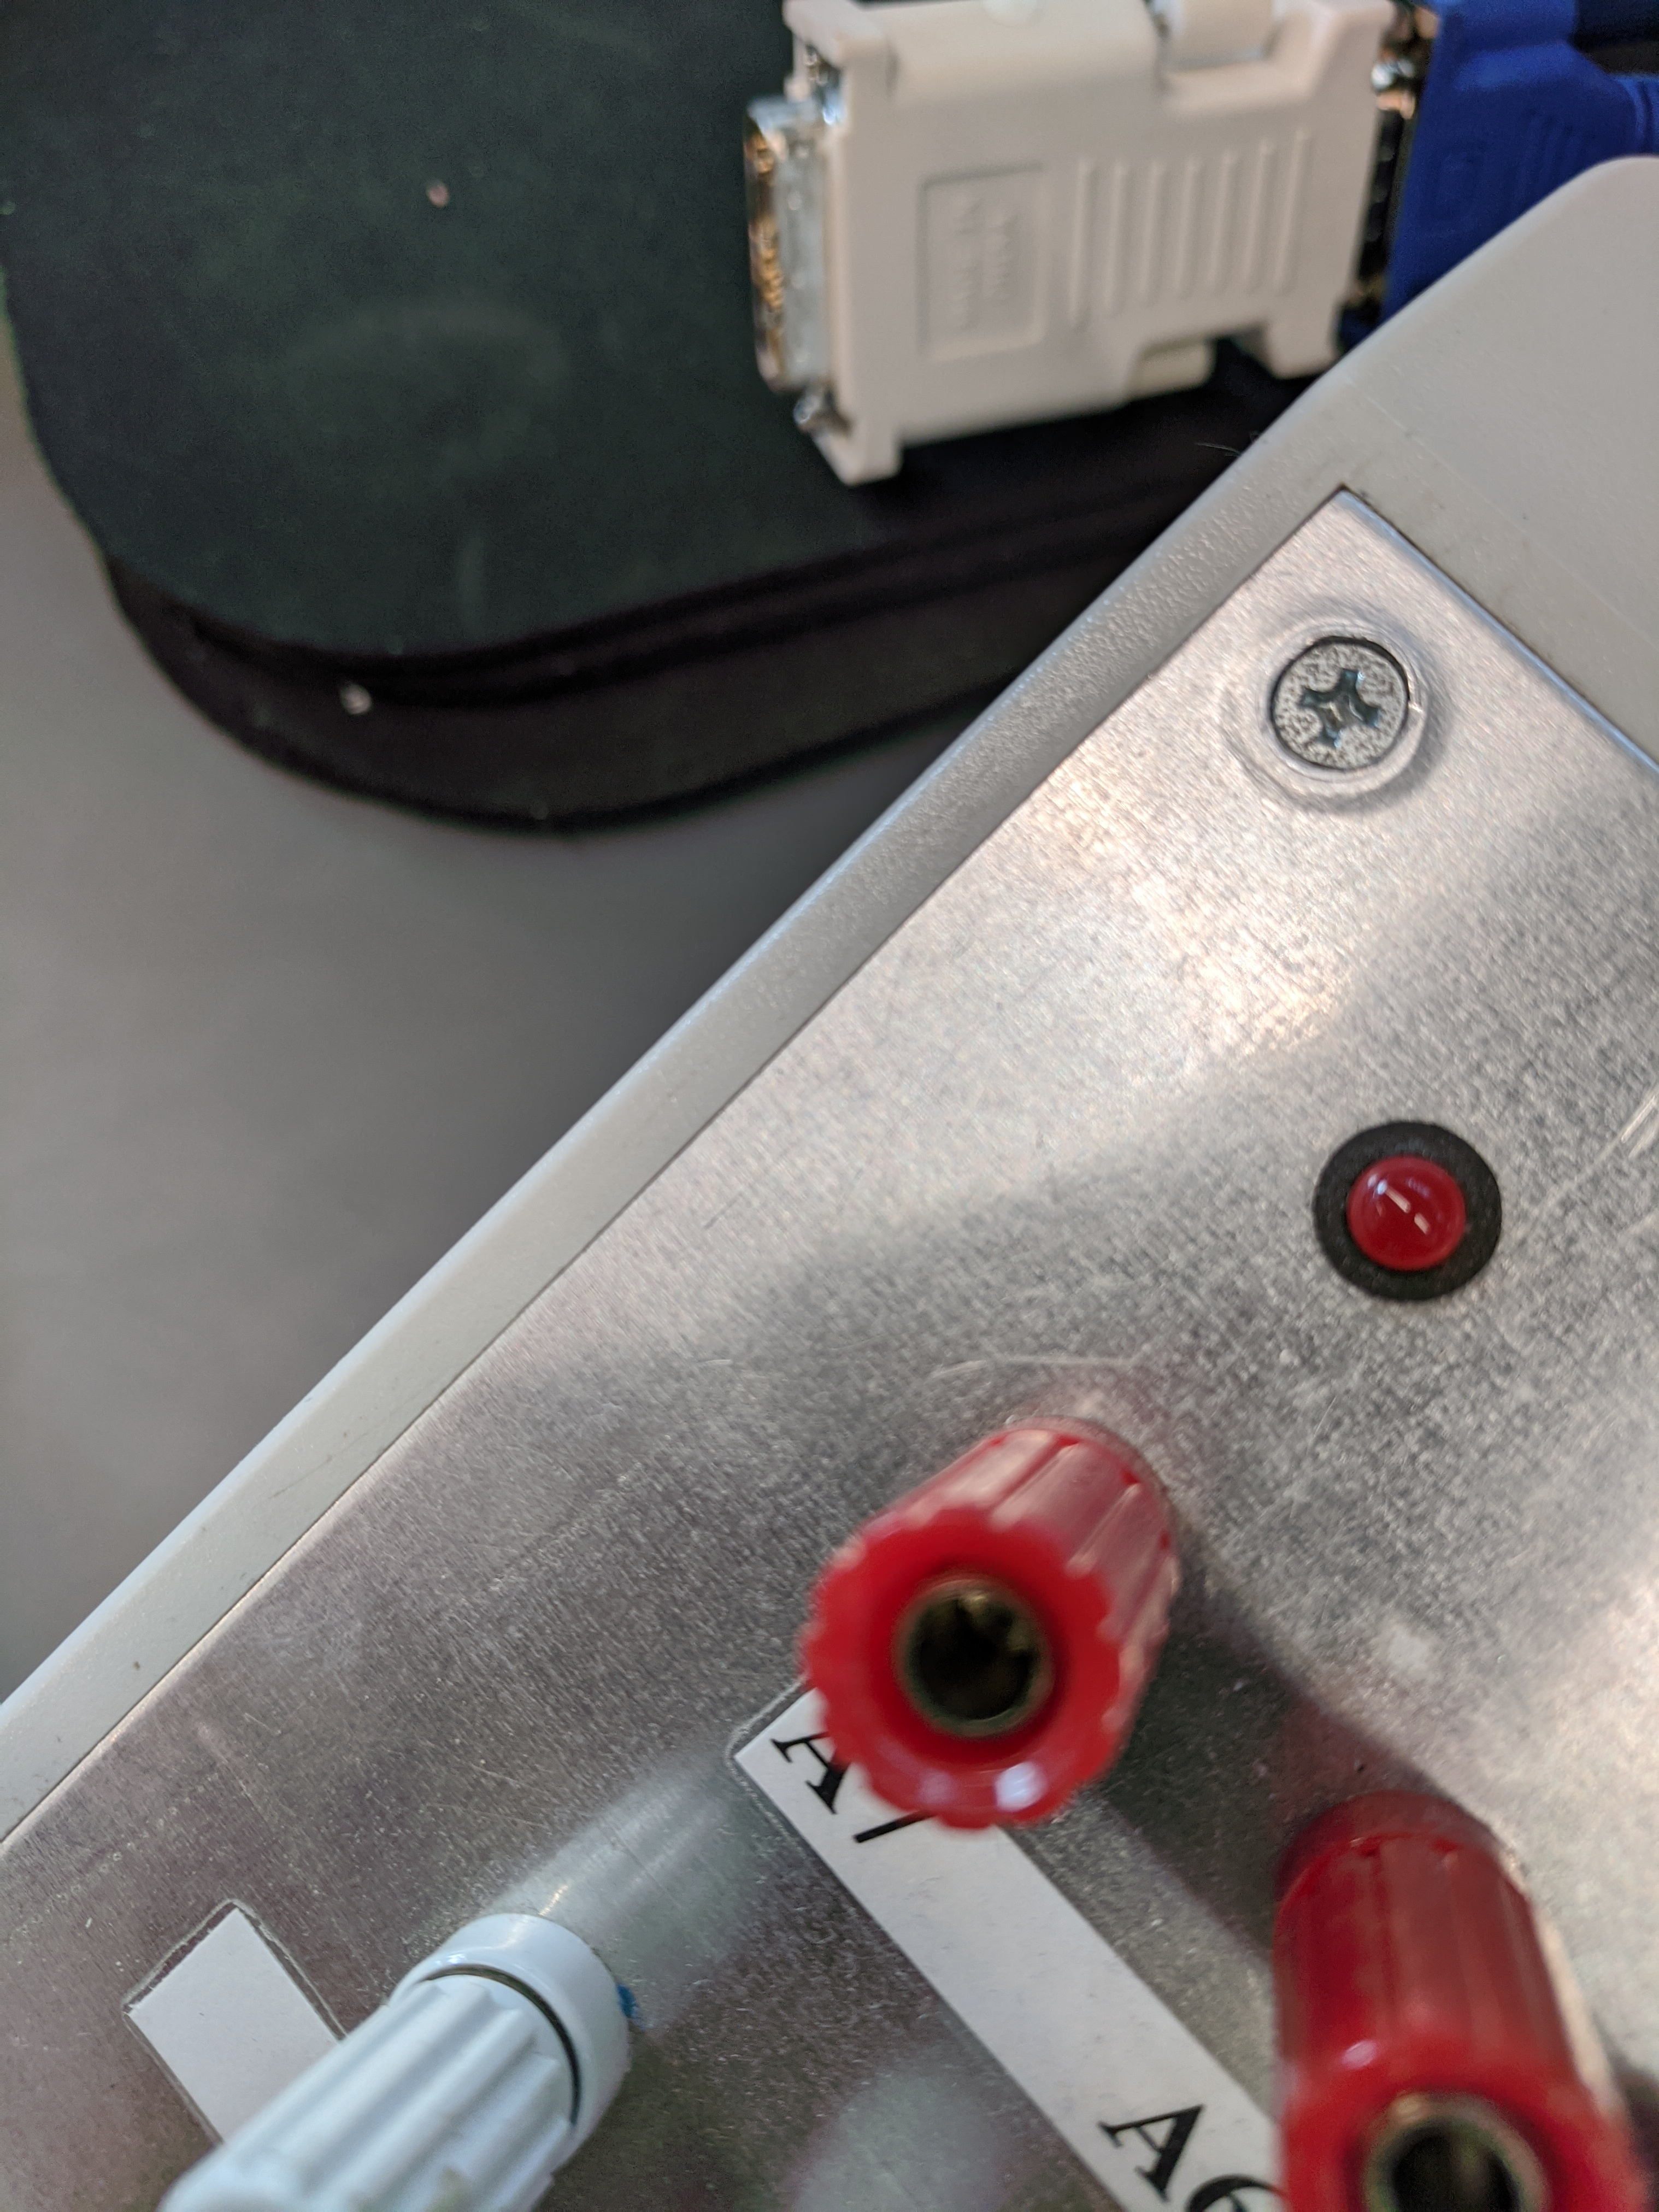cross_recessed_screw: (1262, 610, 1419, 786)
